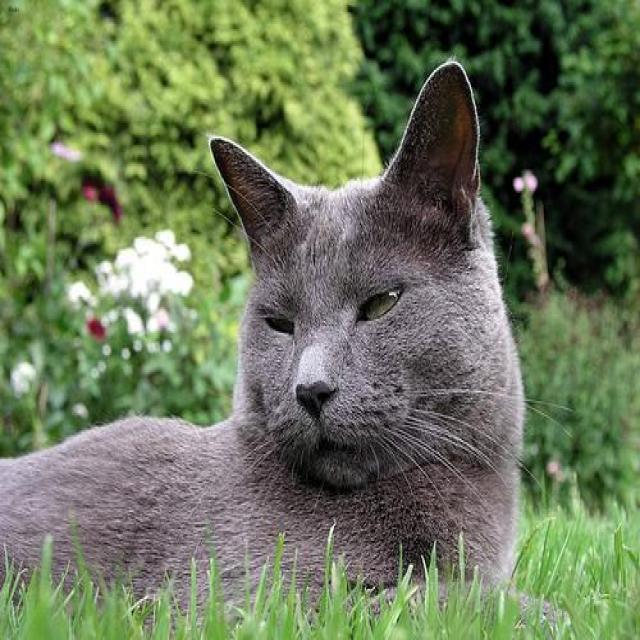cat: (0, 63, 570, 635)
